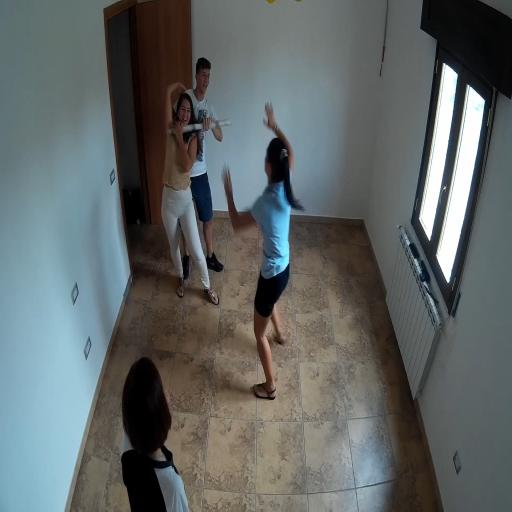violencia: (152, 46, 232, 317)
